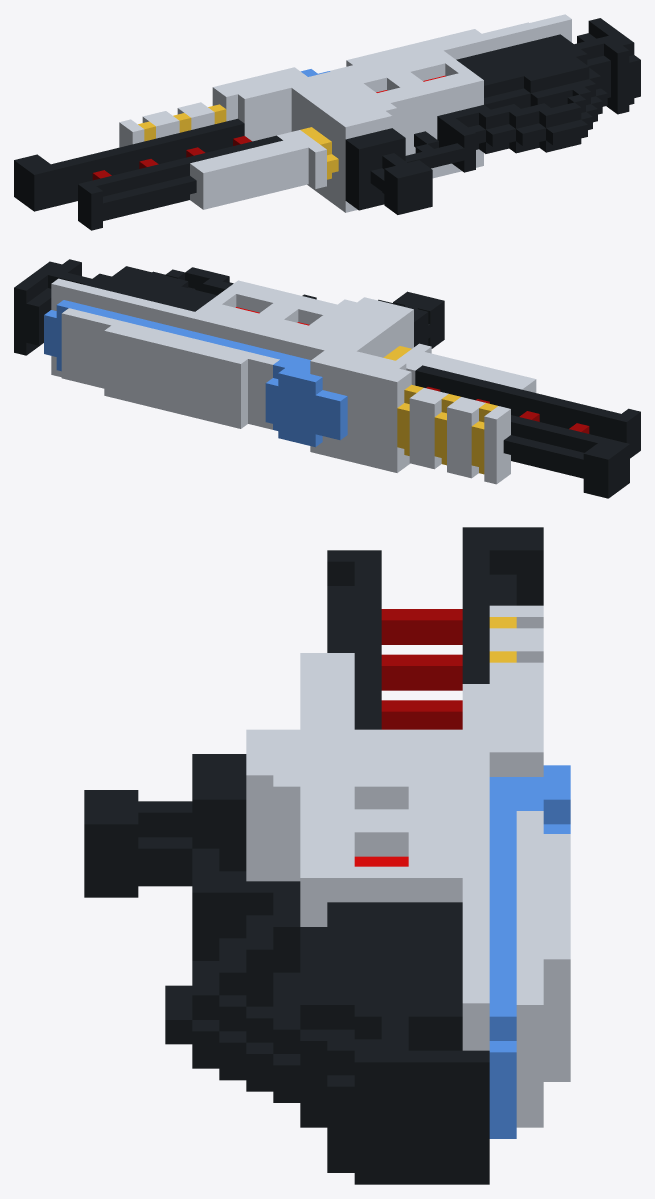
File: gun15.obj
3 renders of one model, top to bottom at view 1: azimuth 30°, elevation 25°; view 2: azimuth 150°, elevation 25°; view 3: azimuth 270°, elevation 25°, orthographic. The views are drawn at different scales.
Bounding box in the file's own units: 4.9 × 0.7 × 1.8.
1 material, 1 textured.
